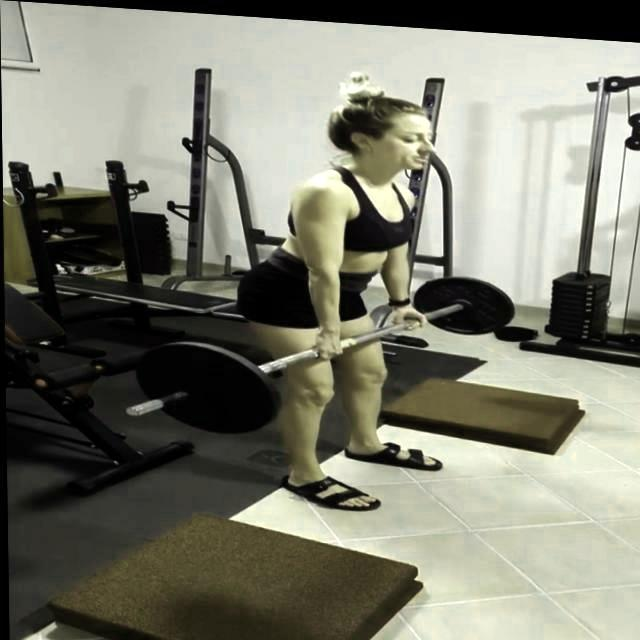barbell: (121, 334, 287, 439)
